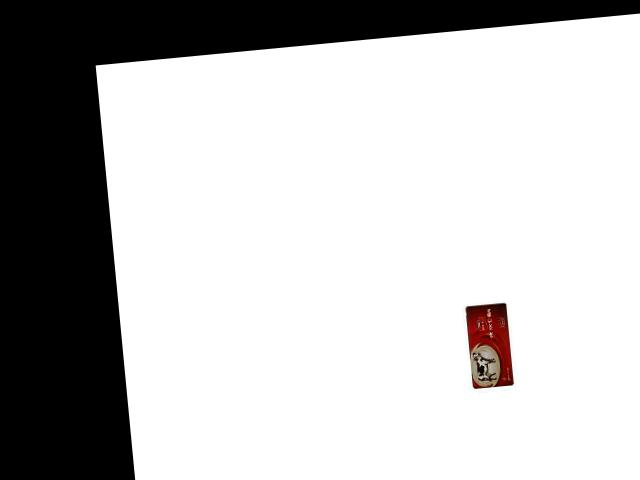chocolate: (465, 300, 516, 388)
